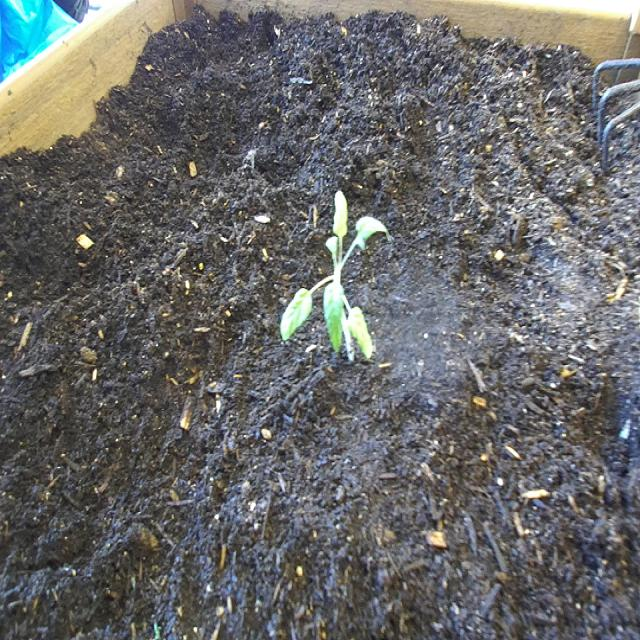Healthy: (276, 185, 394, 372)
